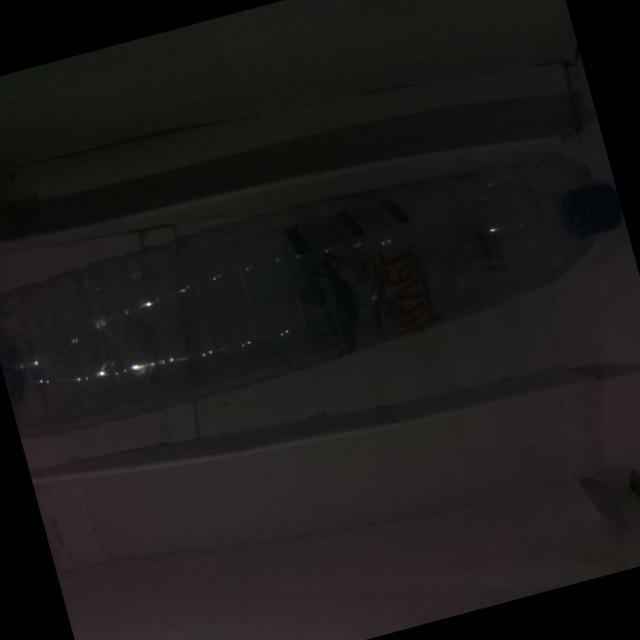good: (0, 110, 640, 459)
